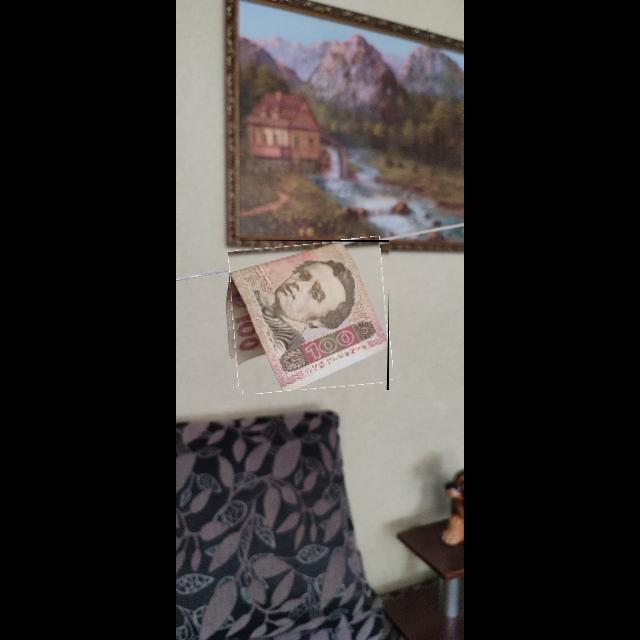100uah: (231, 242, 389, 391)
